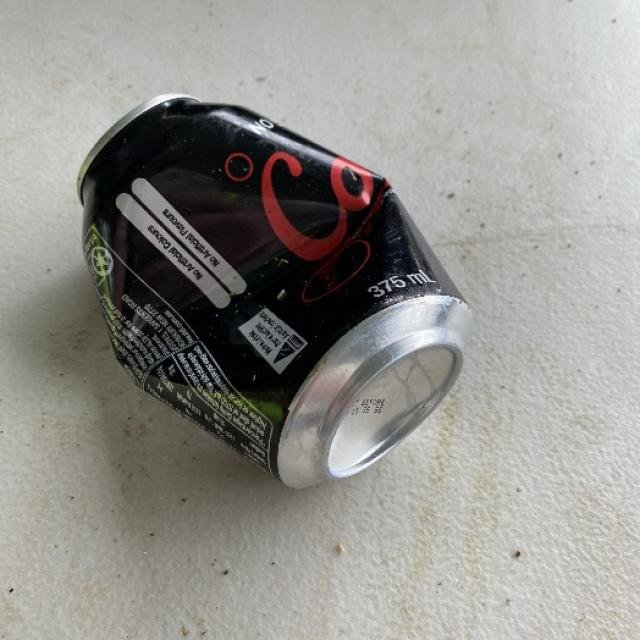metal: (76, 92, 474, 490)
